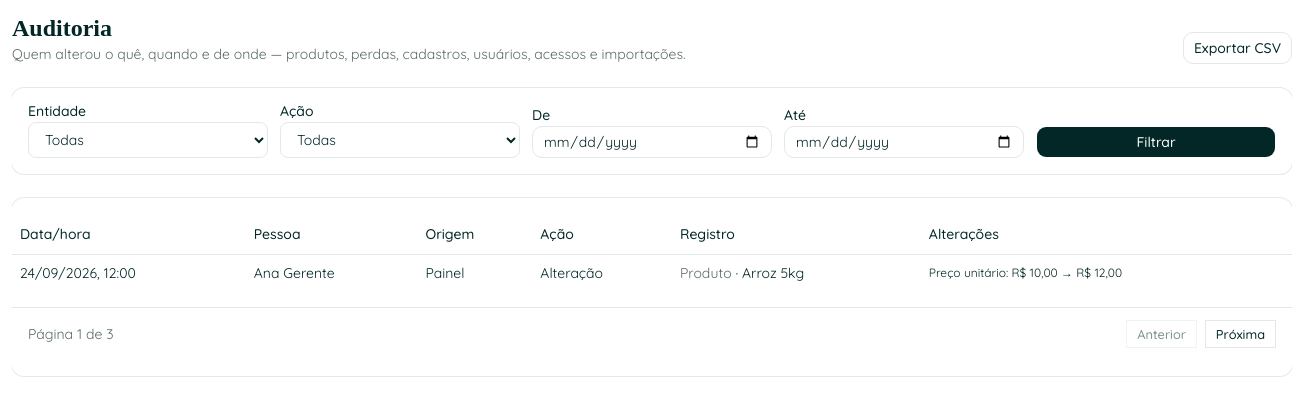
Test: AuditPage › paginação pede a próxima página
The width and height of the screenshot is (1304, 394).
Click the button "Próxima" at (1240, 334), box [1205,320,1276,348]
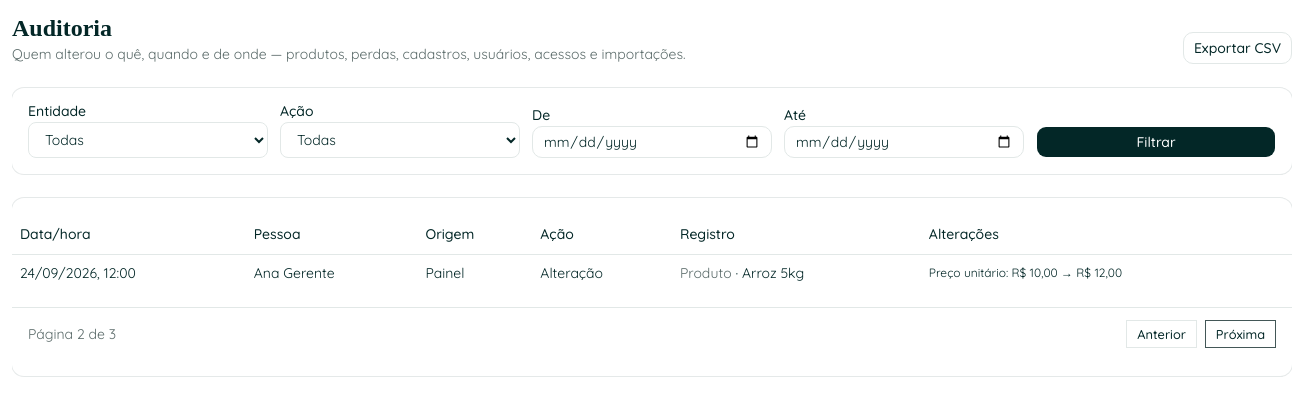
Expected: the text "Página 2 de 3" is shown, [28,324,116,344]
